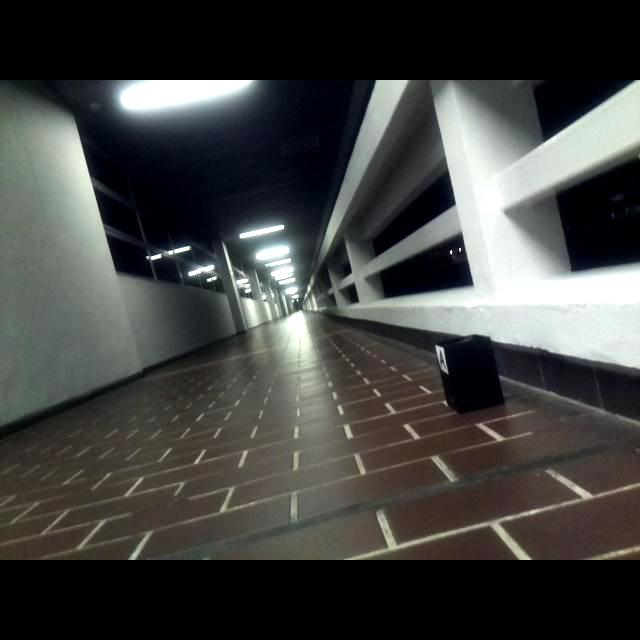A: (438, 346, 448, 372)
